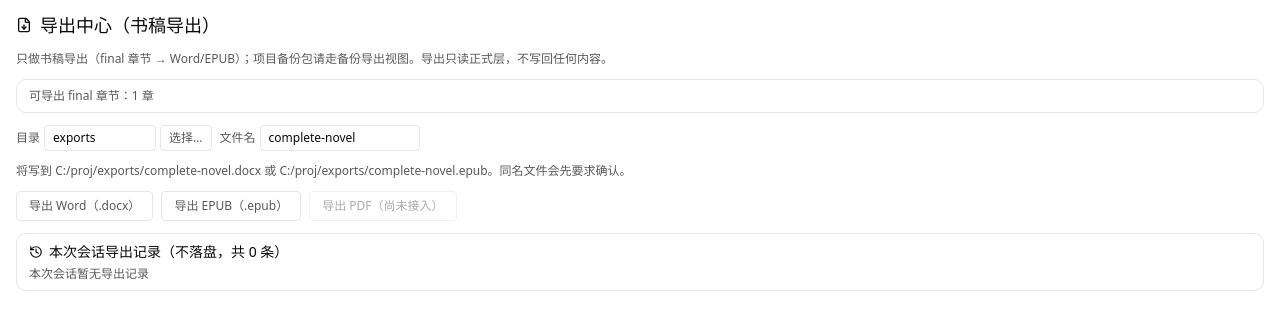
Test case: ExportCenterView › 导出失败 → 会话记录失败行
Expected: the text "1" is shown, [132,87,139,104]
Click the button with test id "export-docx-button": (85,206) [16,191,153,221]
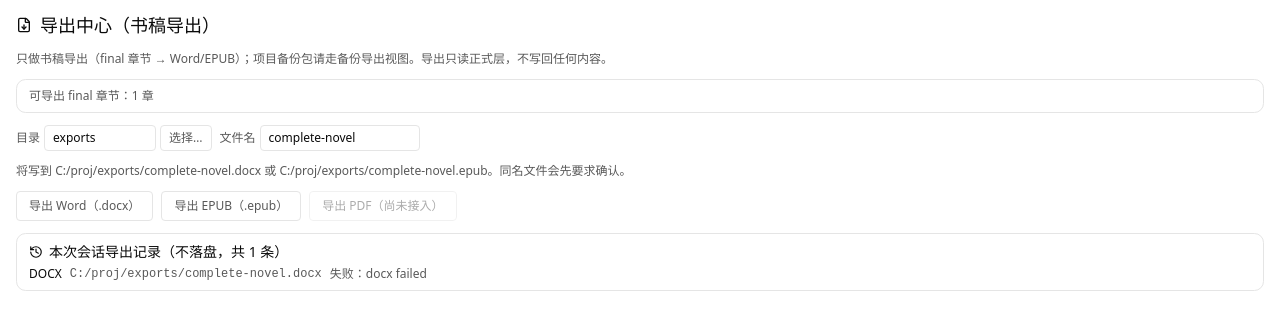
Result: the list item with test id "export-record-failure" is shown at [29,265,427,282]
Result: the list item with test id "export-record-failure" shows "docx failed" at [330,265,427,282]
Click the button with test id "export-epub-button": (231,206) [161,191,301,221]
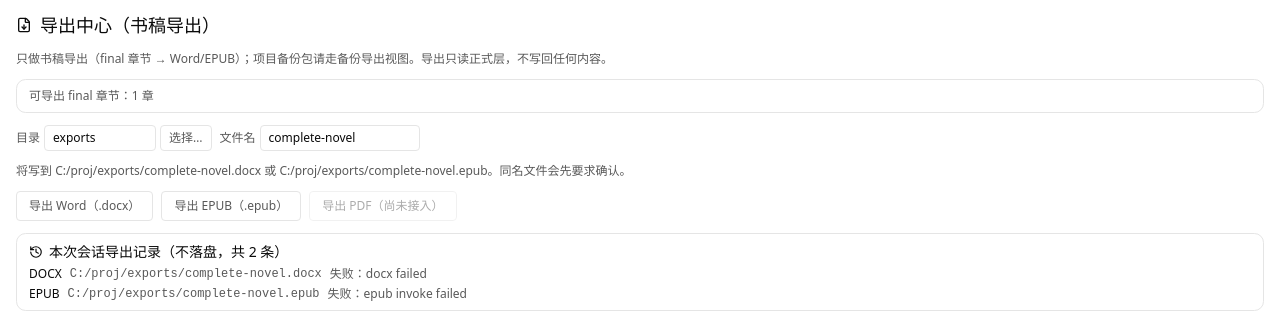
Result: the number of list items with test id "export-record-failure" is 2 at [29,265,427,282]; [29,285,467,302]
Result: the list item with test id "export-record-failure" shows "epub invoke failed" at [328,285,467,302]
